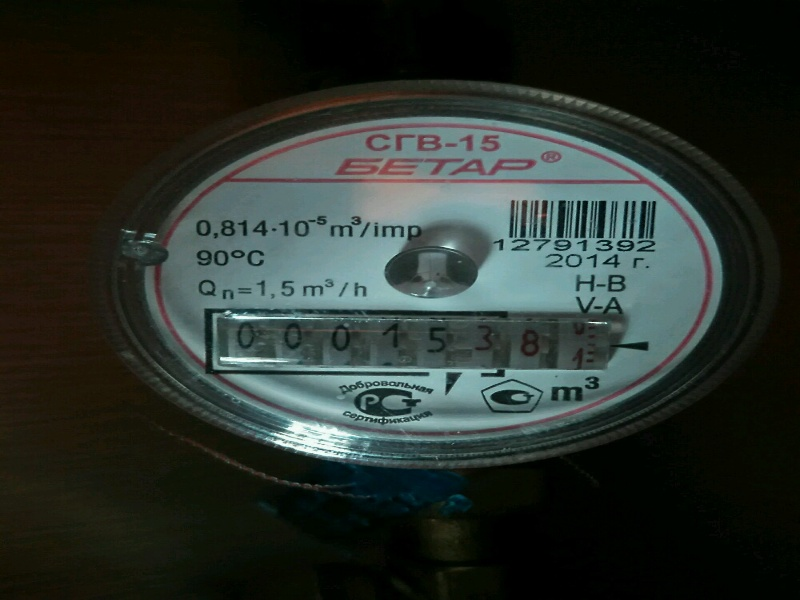meter: (197, 302, 613, 378)
